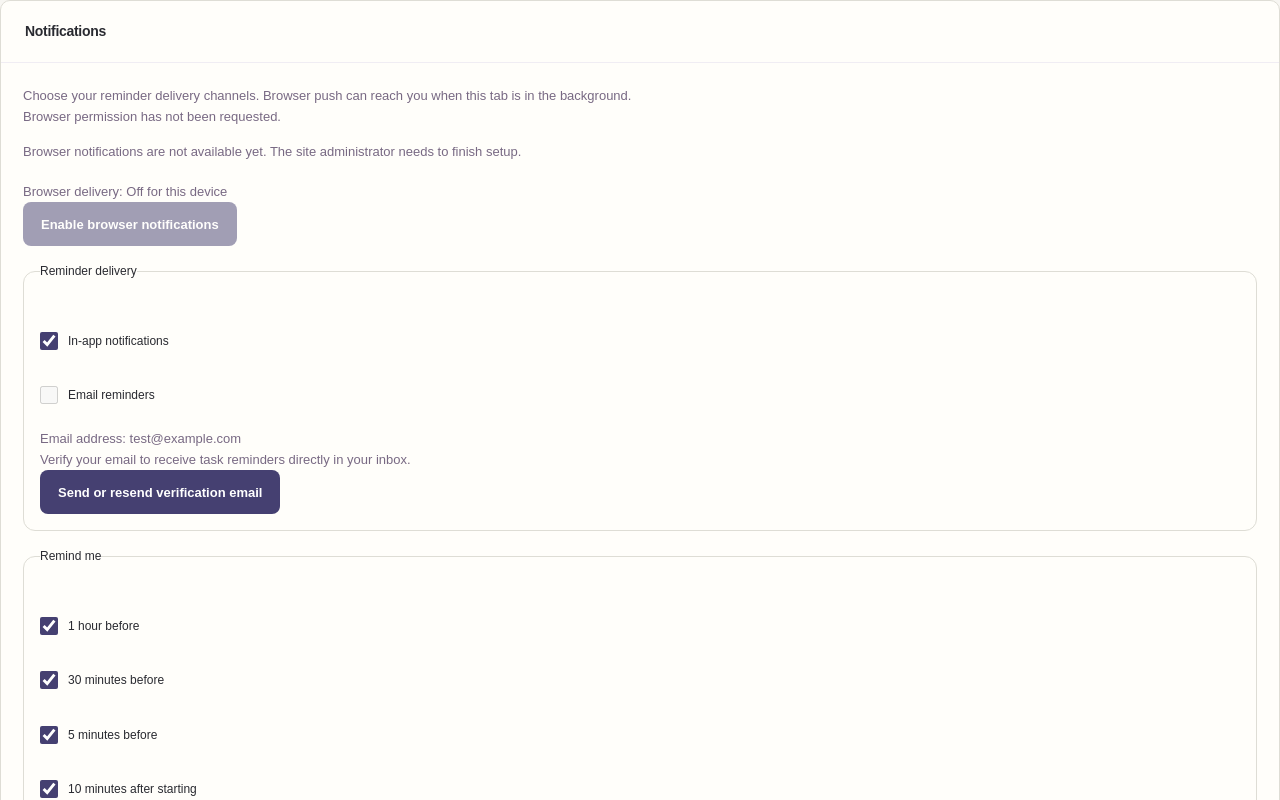
Test: requires verification before enabling email and reports resend failures
Expected: the checkbox labelled "Email reminders" is disabled, [40, 386, 58, 404]
Click the button "Send or resend verification email" at (160, 492), box [40, 470, 280, 514]
(page scrolled)
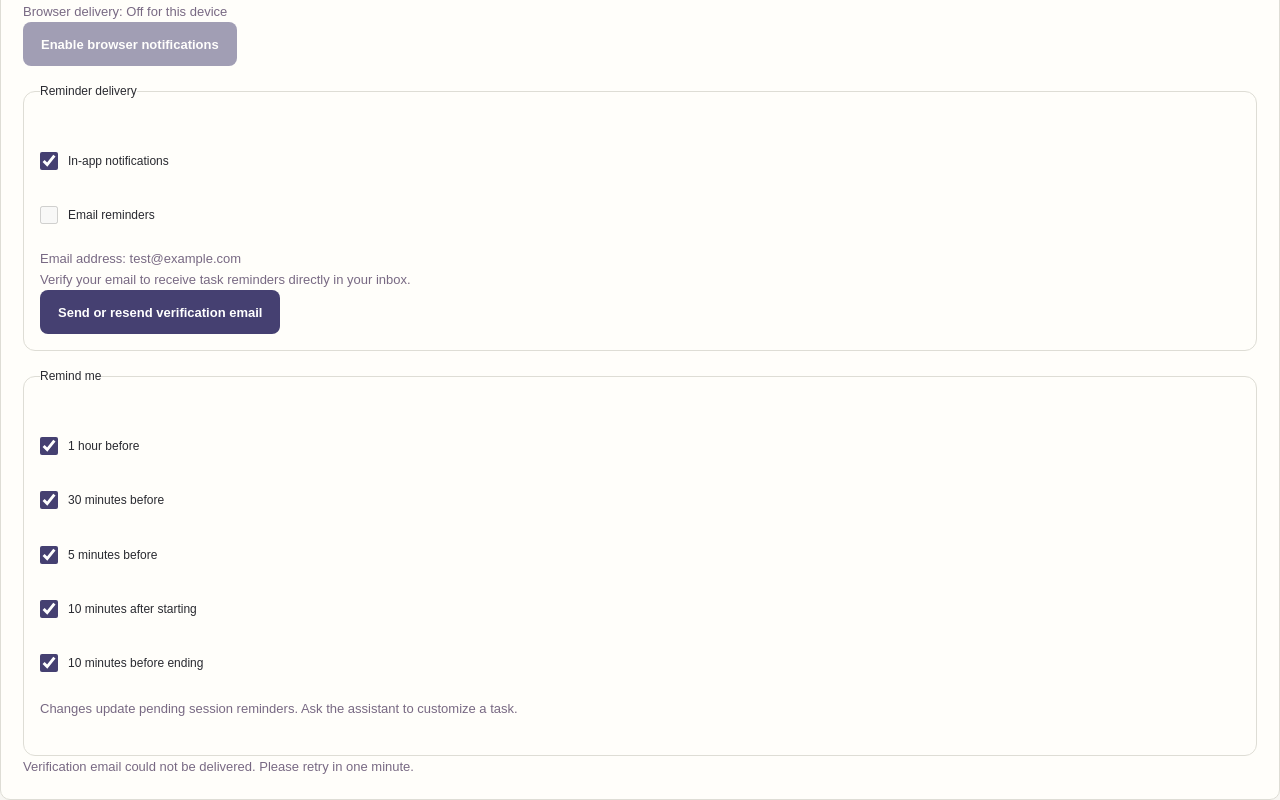
Expected: the text "Verification email could not be delivered. Please retry in one minute." is shown, [23, 758, 414, 774]
